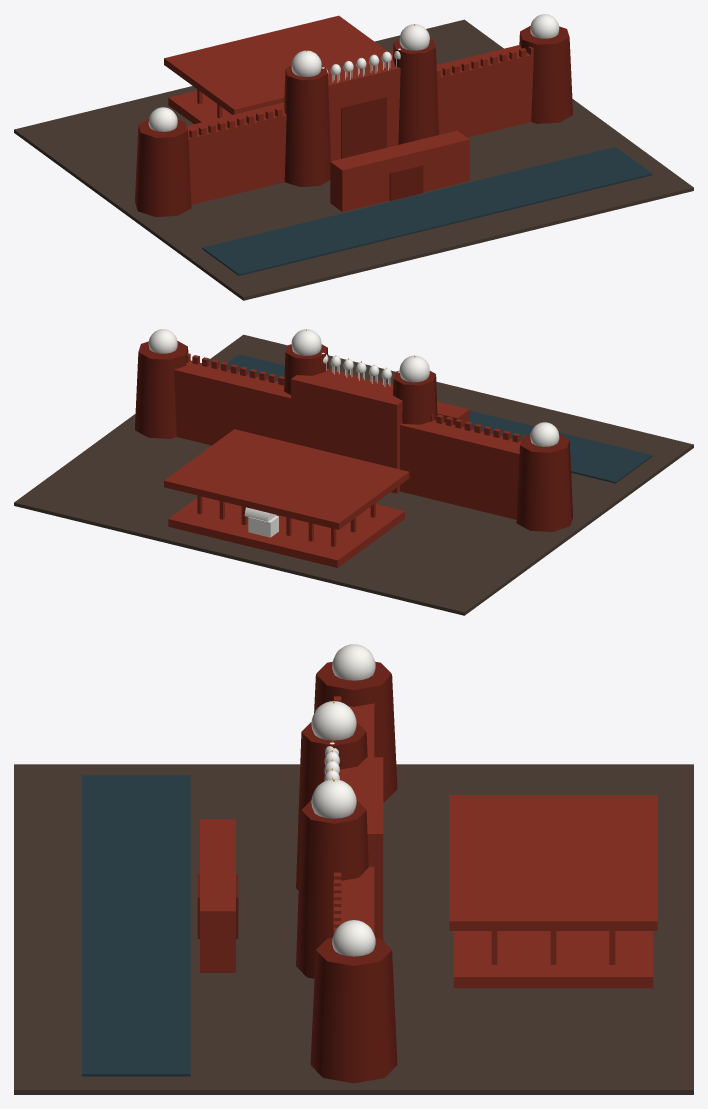
File: red_fort.glb
3 renders of one model, top to bottom at view 1: azimuth 30°, elevation 25°; view 2: azimuth 150°, elevation 25°; view 3: azimuth 270°, elevation 25°, orthographic. The views are drawn at different scales.
Visible parts, largest first — view 1: RedFortCitadel, LahoreGate, DiwanIAam; view 2: RedFortCitadel, DiwanIAam, LahoreGate; view 3: RedFortCitadel, DiwanIAam, LahoreGate.
Boxes of the visible parts, x1,y1,x2,y2 form: RedFortCitadel: (14, 14, 693, 300); LahoreGate: (284, 24, 469, 211); DiwanIAam: (164, 15, 387, 124); RedFortCitadel: (14, 329, 693, 615); DiwanIAam: (164, 429, 409, 567); LahoreGate: (284, 329, 469, 493); RedFortCitadel: (14, 644, 693, 1094); DiwanIAam: (449, 795, 657, 988); LahoreGate: (197, 701, 383, 978).
Bounding box in the file's own units: 85 × 23.3 × 75.
